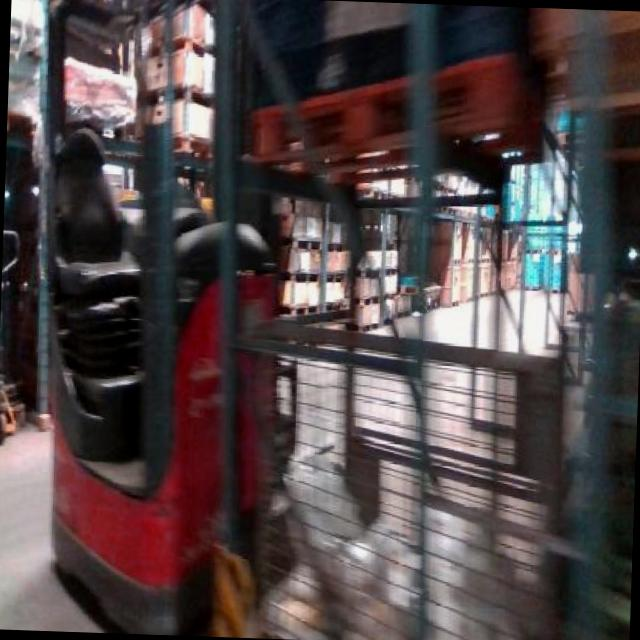pallet: (226, 23, 512, 183), (241, 260, 379, 302), (286, 302, 375, 323)
